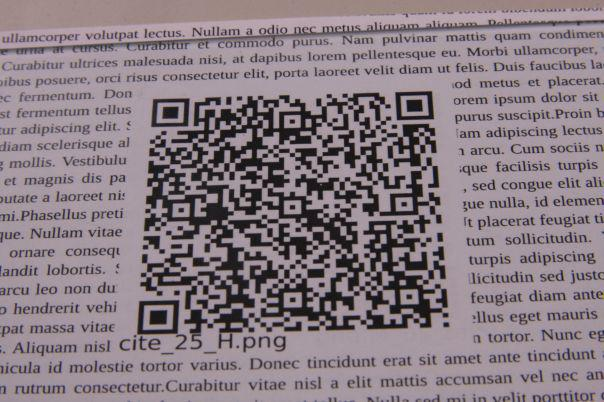Finder pattern: (135, 297, 184, 337), (393, 88, 439, 123), (146, 96, 192, 128)
